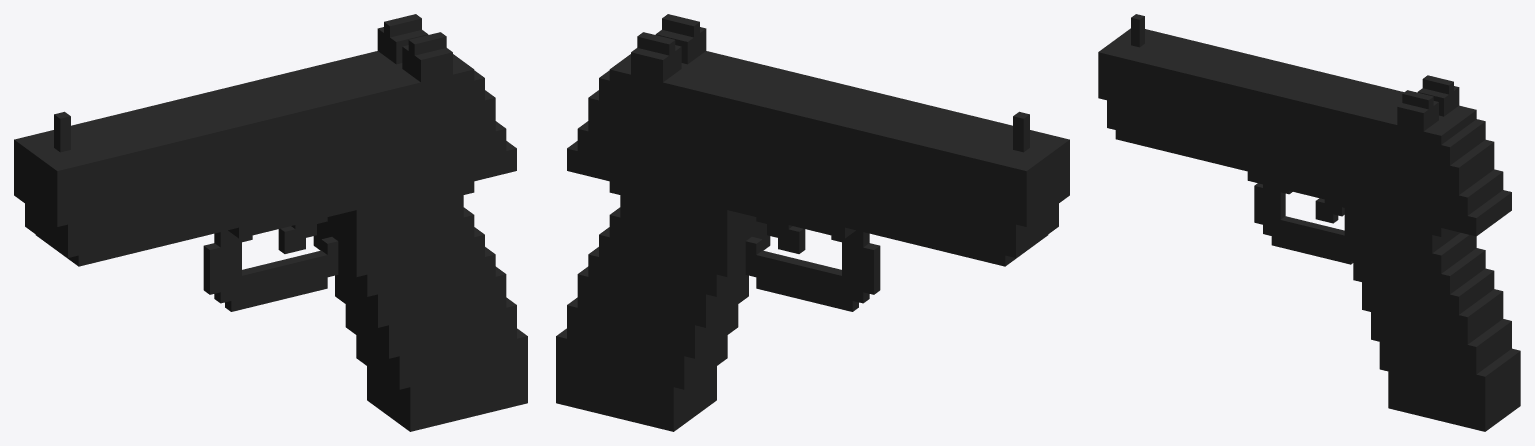
Rendered from Deagle.obj.
The picture shows the model from 3 angles, left to right: view 1: azimuth 30°, elevation 25°; view 2: azimuth 150°, elevation 25°; view 3: azimuth 330°, elevation 25°; orthographic projection. The views are drawn at different scales.
Visible parts, largest first — view 1: Deagle; view 2: Deagle; view 3: Deagle.
Part boxes in pixels (x1,y1,x2,y2): Deagle: [14, 14, 527, 431]; Deagle: [556, 14, 1069, 431]; Deagle: [1098, 14, 1520, 431].
Size of the model in its own units: 4.4 by 3.4 by 0.7.
